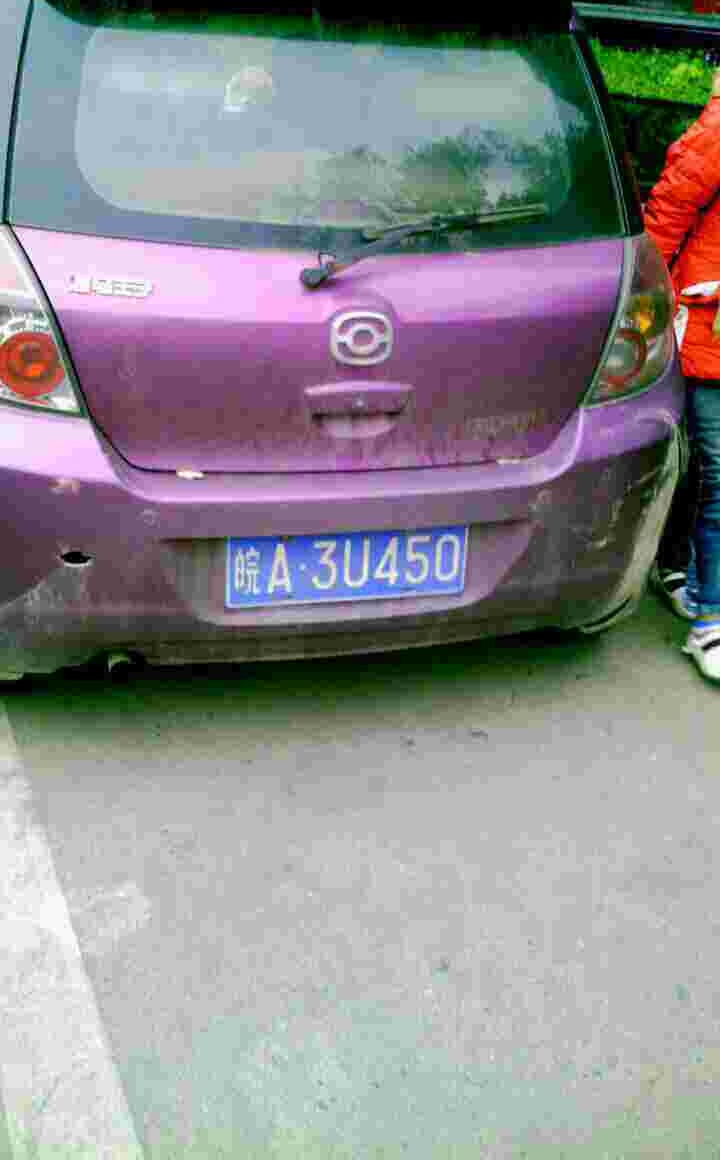license_plate: (216, 529, 476, 594)
